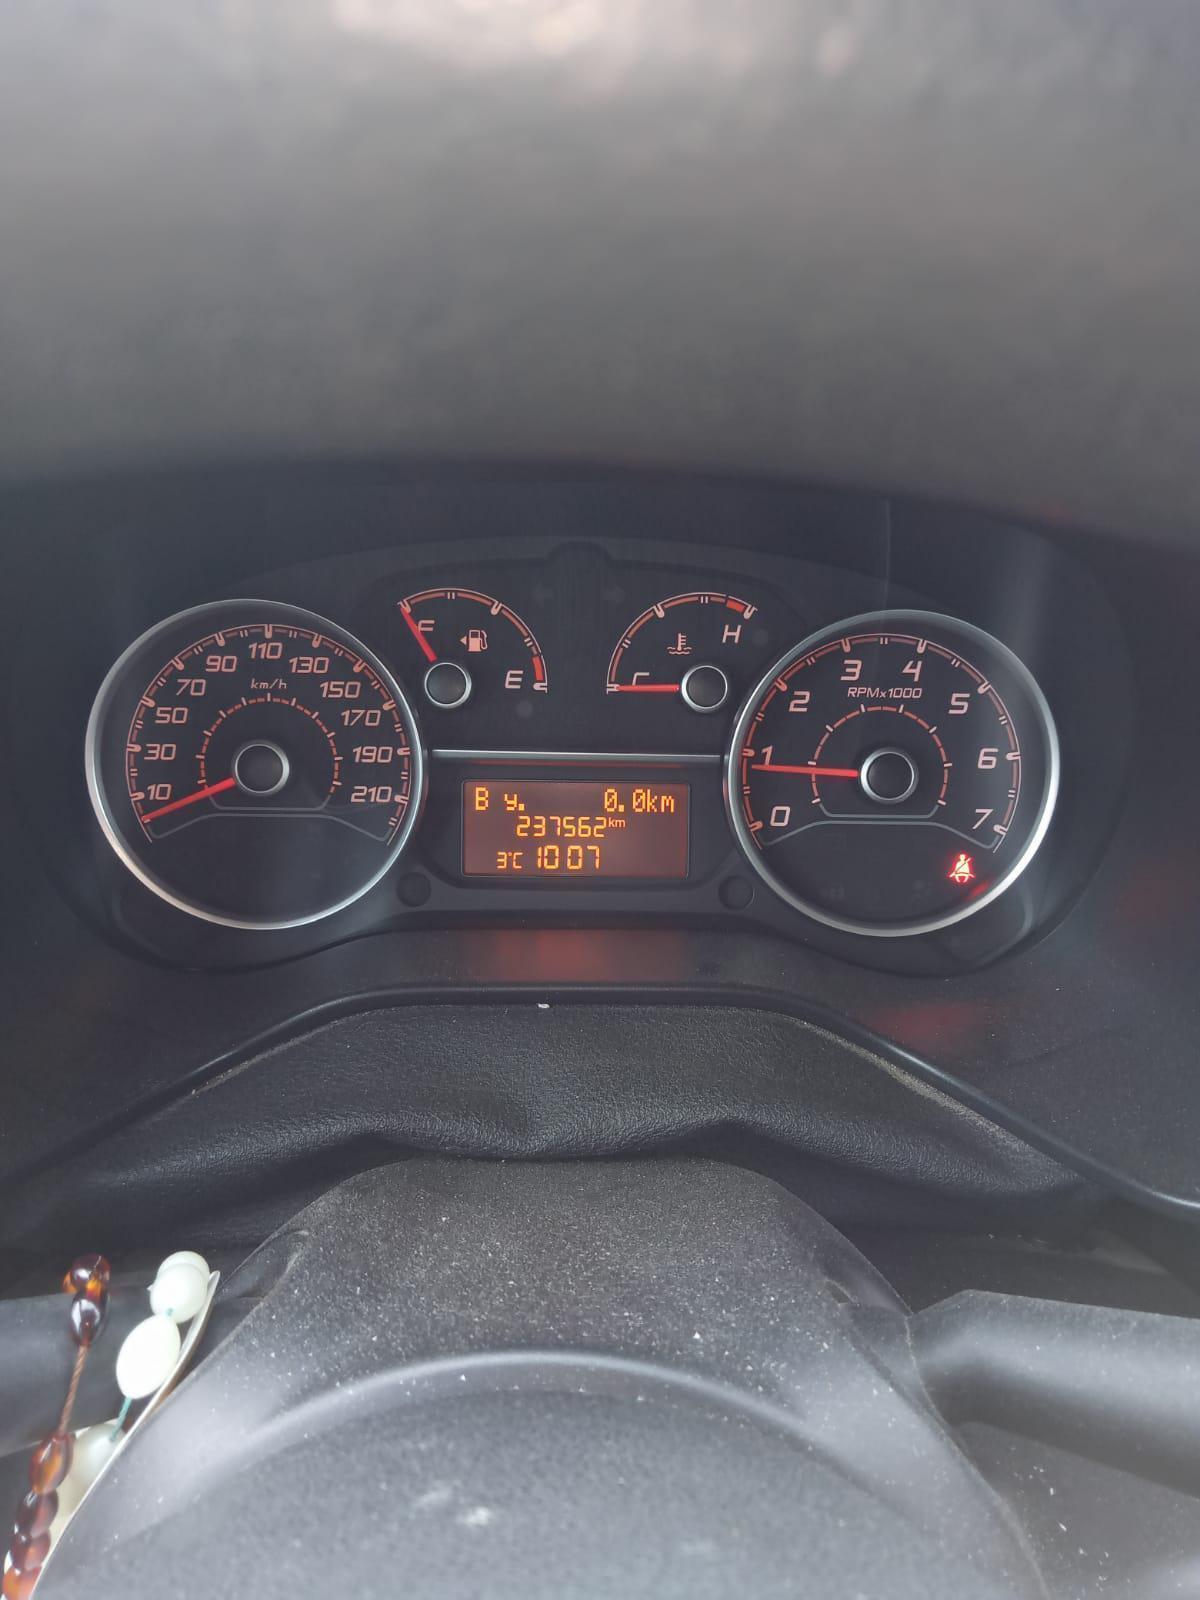,: (518, 803, 524, 811), (618, 804, 624, 813)
0: (566, 844, 582, 869), (542, 845, 558, 869), (603, 787, 616, 813), (632, 787, 645, 813)
1: (536, 847, 542, 868)
2: (516, 815, 529, 837), (592, 816, 606, 837)
3: (532, 815, 545, 837), (495, 850, 507, 869)
5: (562, 815, 576, 837)
6: (577, 816, 591, 837)
7: (585, 845, 600, 869), (548, 815, 560, 837)
X: (474, 786, 488, 810), (645, 787, 657, 813), (503, 792, 517, 811), (661, 795, 674, 813), (512, 850, 523, 869), (614, 819, 625, 826), (608, 816, 614, 826)
odometer: (459, 779, 689, 881)
